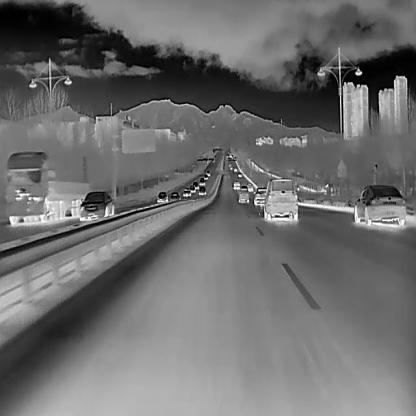car: (4, 149, 90, 226), (353, 184, 406, 225), (264, 179, 297, 221), (78, 190, 114, 221), (253, 187, 268, 207), (237, 186, 249, 203), (156, 190, 168, 202), (169, 191, 180, 201), (183, 187, 191, 197), (198, 185, 206, 195), (246, 182, 254, 192), (232, 181, 240, 190), (189, 185, 195, 193), (199, 177, 205, 185), (193, 181, 198, 189), (205, 170, 210, 175), (238, 172, 243, 177), (228, 165, 233, 170), (204, 173, 208, 179), (233, 167, 237, 172)
